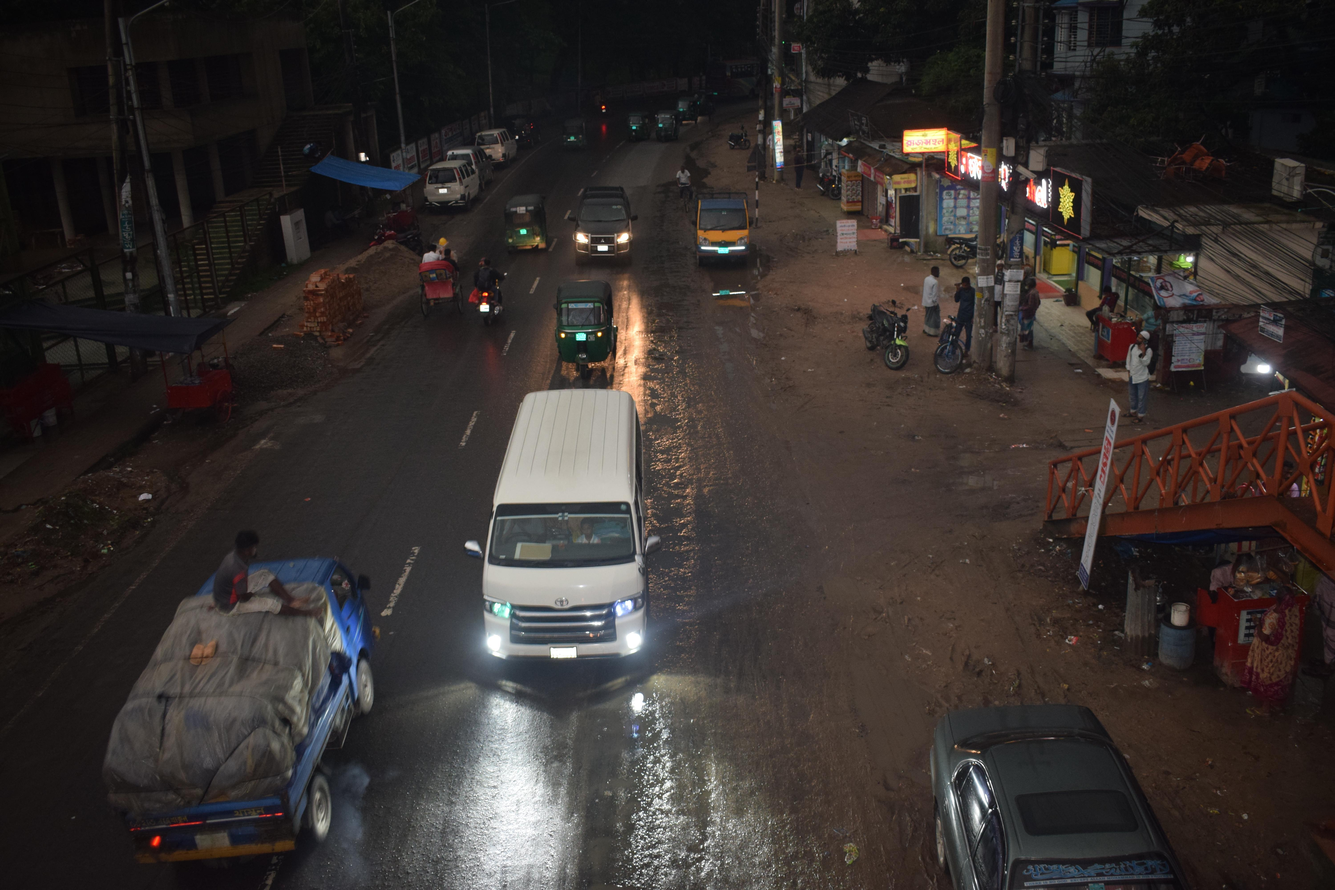Bike: (841, 286, 928, 391), (914, 299, 980, 398), (456, 253, 523, 346)
Car: (439, 373, 719, 741), (836, 672, 1227, 890), (554, 168, 649, 281), (399, 229, 467, 324), (405, 153, 488, 220), (465, 124, 530, 172)
Truck: (67, 522, 420, 890), (679, 181, 771, 284)
